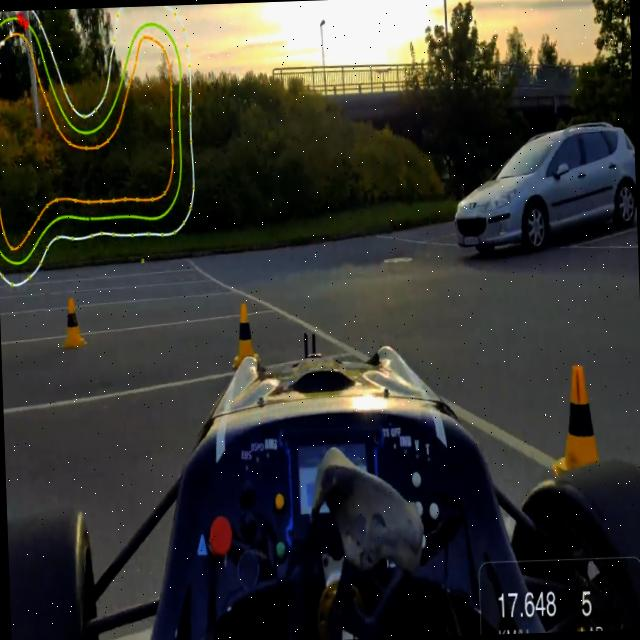yellow_cone: (550, 360, 602, 462), (230, 299, 261, 369), (58, 291, 86, 352)
